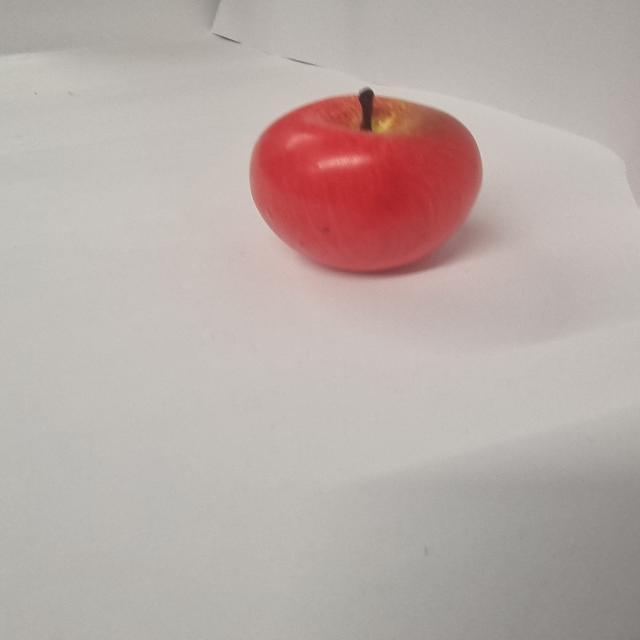apple: (252, 88, 478, 273)
